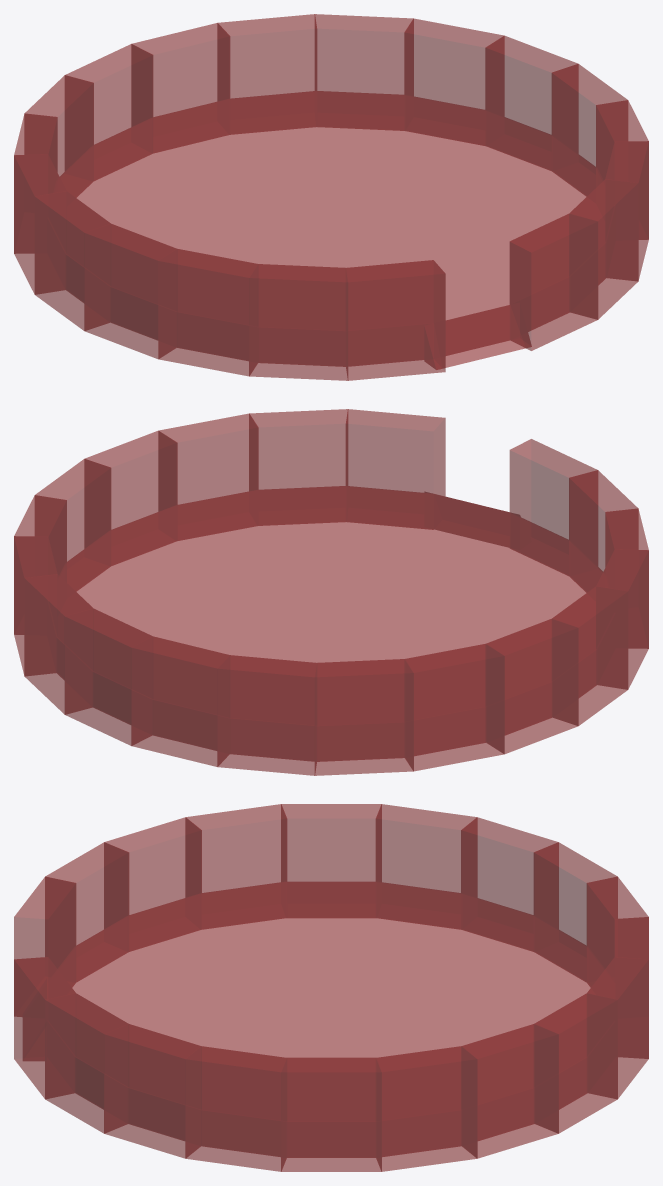
The model's file is SM_Prop_Mechanical_Bull_Pit_01_Collision.fbx.
3 renders of one model, top to bottom at view 1: azimuth 30°, elevation 25°; view 2: azimuth 150°, elevation 25°; view 3: azimuth 270°, elevation 25°, orthographic.
Parts seen in each view (by area): view 1: SM_Prop_Mechanical_Bull_Pit_01_Collision; view 2: SM_Prop_Mechanical_Bull_Pit_01_Collision; view 3: SM_Prop_Mechanical_Bull_Pit_01_Collision.
Boxes of the visible parts, x1,y1,x2,y2 form: SM_Prop_Mechanical_Bull_Pit_01_Collision: (14, 14, 648, 380); SM_Prop_Mechanical_Bull_Pit_01_Collision: (14, 409, 648, 775); SM_Prop_Mechanical_Bull_Pit_01_Collision: (14, 804, 648, 1171).
Bounding box in the file's own units: 522 × 90.33 × 522.
